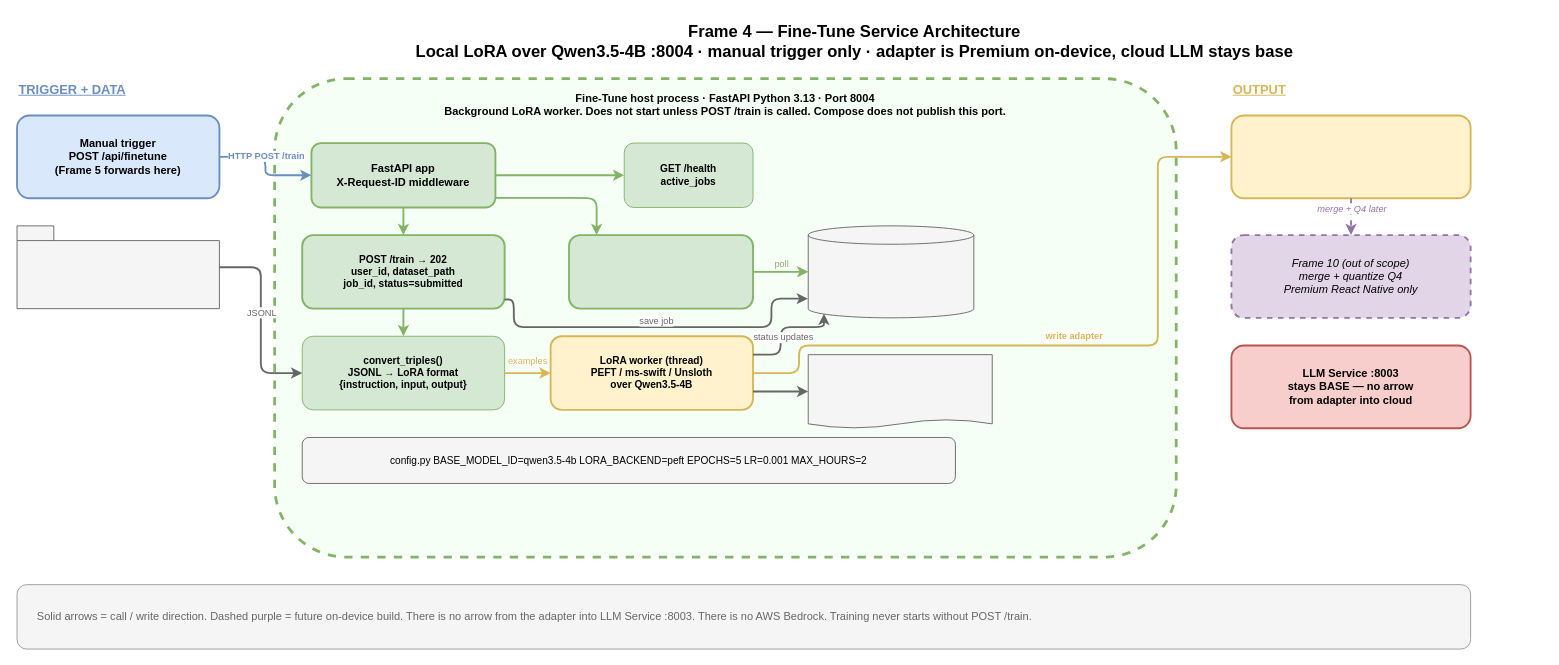
Image size: 1559x665. Some labels were removed from this diagram. Each missing label, with the centre of its shape:
"ETL triples JSONL data/triples/{user_id}/ (Frame 2 output)" goes at point (117, 267).
"GET /status/:job_id metrics, model_version adapter_path" goes at point (660, 271).
"In-memory job store submitted → in_progress → completed / failed" goes at point (890, 271).
"LoRA adapter files data/models/{user_id}/adapter/ adapter_config.json" goes at point (1350, 156).
"Training log Markdown data/training_logs/{job_id}.md" goes at point (899, 391).
